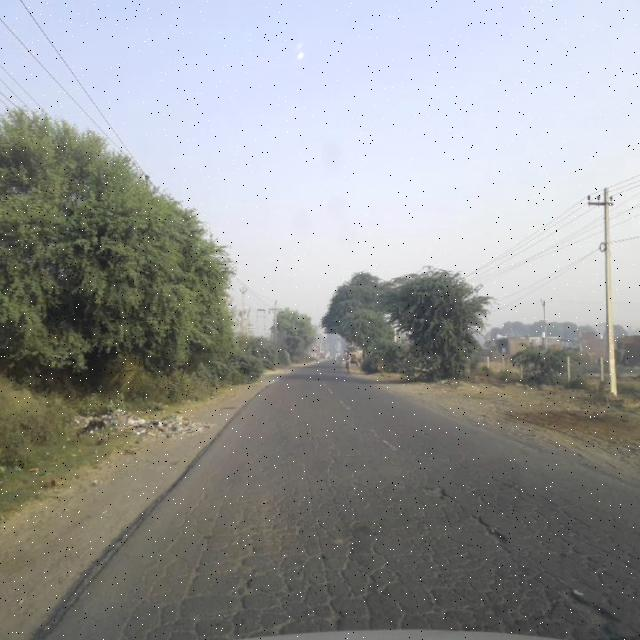D20: (121, 450, 636, 639)
D40: (411, 474, 526, 549), (552, 568, 639, 639)
